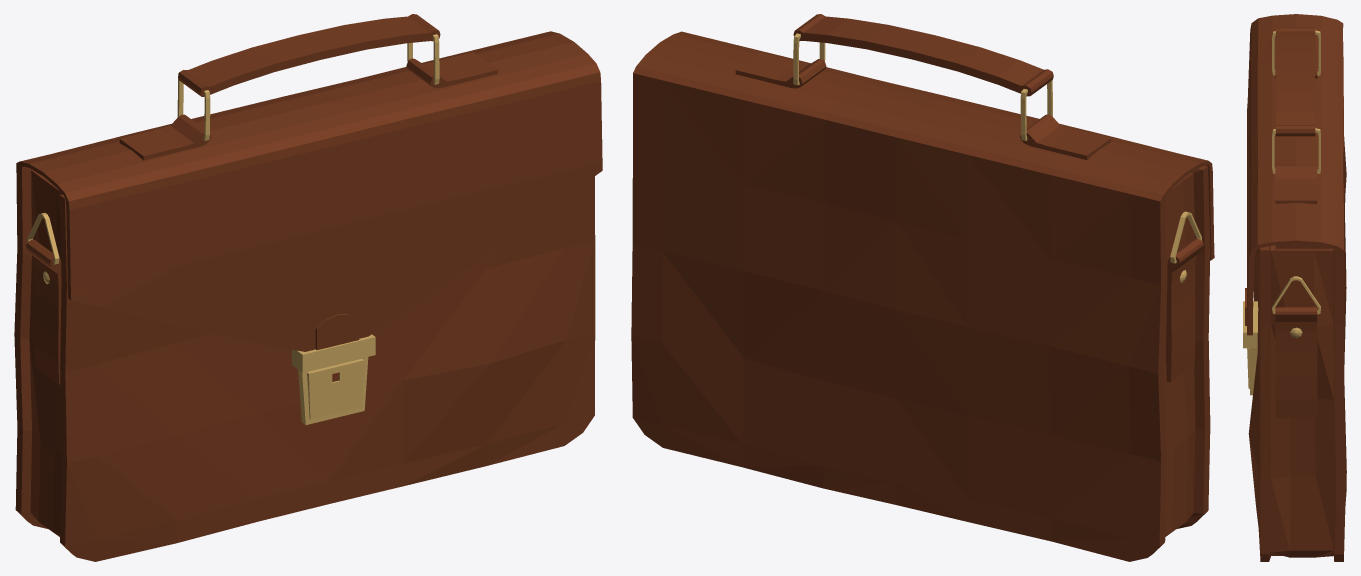
The model's file is Briefcase.glb.
3 views of the same model, side by side, from view 1: azimuth 30°, elevation 25°; view 2: azimuth 150°, elevation 25°; view 3: azimuth 270°, elevation 25° (orthographic). The views are drawn at different scales.
Visible parts, largest first — view 1: Node_e73336, Node_0205b7; view 2: Node_e73336, Node_0205b7; view 3: Node_e73336, Node_0205b7.
Part boxes in pixels (box(x1,y1,x2,y2)): Node_e73336: box(14, 14, 602, 561); Node_0205b7: box(27, 34, 439, 424); Node_e73336: box(631, 14, 1214, 561); Node_0205b7: box(793, 33, 1201, 282); Node_e73336: box(1245, 14, 1346, 561); Node_0205b7: box(1243, 30, 1320, 395).
Bounding box in the file's own units: 5.16 × 4.05 × 0.9779.
